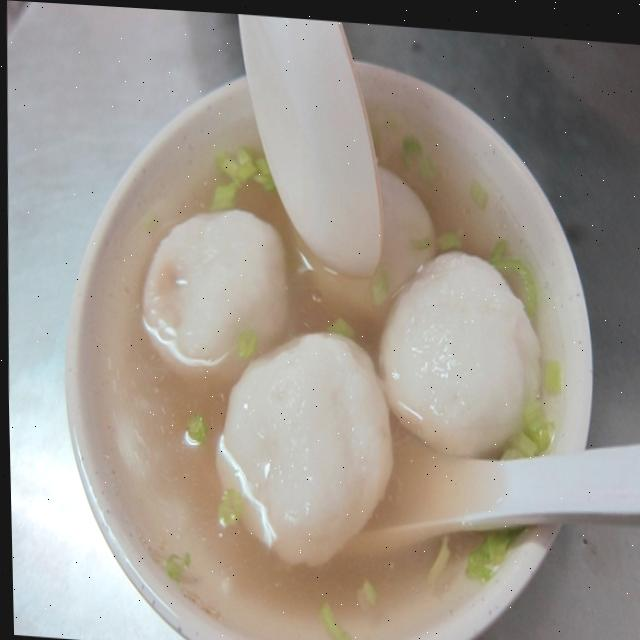熟制海鲜: (66, 51, 584, 640)
